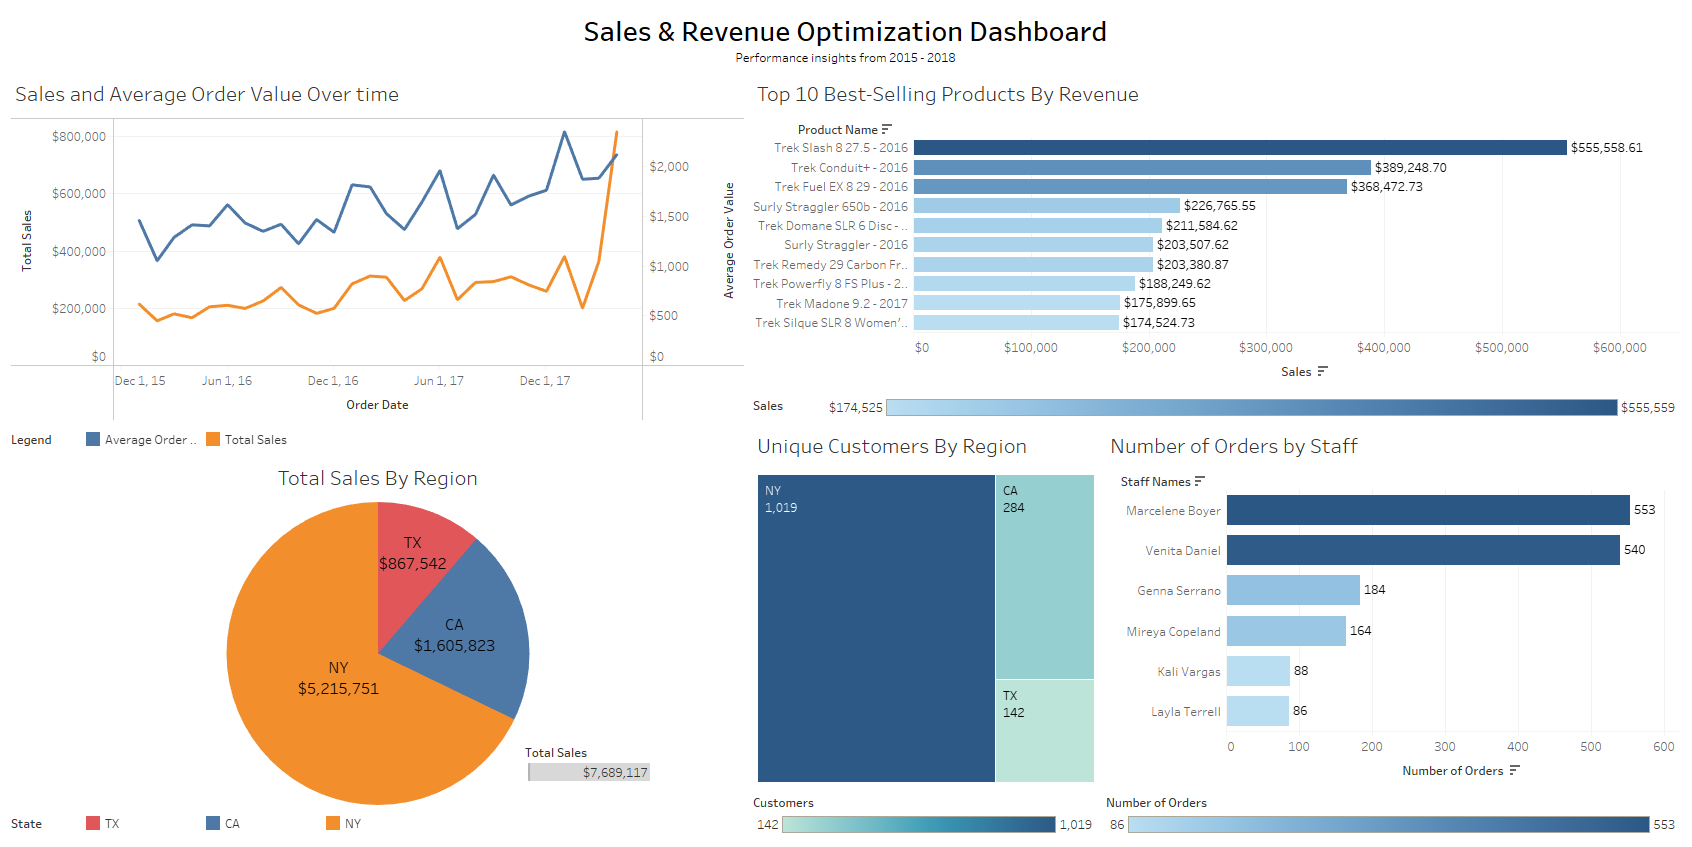

This screenshot's page, from the dashboard's own definition file:
{"tool":"tableau","page":{"name":"Sales & Revenue Optimization Dashboard","canvas":[1000,1000],"units":"permille","ordinal":0},"visuals":[{"type":"text","box":[4.7,9.4,990.5,75.5]},{"type":"worksheet","title":"Sales and Average Order Value Over time","mark":"Automatic","rows":["F2","F3"],"cols":["Calculation_1156017758725849088"],"box":[4.7,84.9,438.6,418]},{"type":"worksheet","title":"Top 10 Best-Selling Products By Revenue","mark":"Automatic","rows":["F1"],"cols":["F2"],"box":[443.3,84.9,552,377.4]},{"type":"legend","title":"Top 10 Best-Selling Products By Revenue","param":"[federated.1989x2b1o4sj4l1g7i16d0ktwh7e].[sum:F2:qk]","box":[443.3,462.3,552,37.7]},{"type":"worksheet","title":"Unique Customers By Region","mark":"Automatic","box":[443.3,500,208.2,432.8]},{"type":"worksheet","title":"Number of Orders by Staff","mark":"Automatic","rows":["F1"],"cols":["F2"],"box":[651.5,500,343.8,432.8]},{"type":"legend","title":"Sales and Average Order Value Over time","param":"[federated.1bb9gqc1rpjwpy15ijo2a1utg04u].[:Measure Names]","box":[4.7,502.9,438.6,34.9]},{"type":"worksheet","title":"Sales By Region","mark":"Pie","box":[4.7,537.8,438.6,418]},{"type":"legend","title":"Sales By Region","param":"[federated.0ku7nhv1i0ui4c155bxdq1qj0f9g].[sum:F2:qk]","box":[310.7,878.5,75,44.8]},{"type":"legend","title":"Unique Customers By Region","param":"[federated.0m1wswu0bholvr15w4b5s11nxfrz].[sum:F2:qk]","box":[443.3,932.8,208.1,57.8]},{"type":"legend","title":"Number of Orders by Staff","param":"[federated.0zd0ati16j91jj1h99ti11u9f8vc].[sum:F2:qk]","box":[651.4,932.8,343.9,57.8]},{"type":"legend","title":"Sales By Region","param":"[federated.0ku7nhv1i0ui4c155bxdq1qj0f9g].[none:F1:nk]","box":[4.7,955.7,438.6,34.8]}]}

Visuals, with their boxes on the dashboard's canvas, which has no fixed pixel size, in thousandths of its width and height (x1, y1, x2, y2). These are canvas units, not pixel positions in the 1692x847 screenshot, which may show the page scaled, cropped or inside an application window:
text: <box>5,9,995,85</box>
"Sales and Average Order Value Over time" worksheet: <box>5,85,443,503</box>
"Top 10 Best-Selling Products By Revenue" worksheet: <box>443,85,995,462</box>
"Top 10 Best-Selling Products By Revenue" legend: <box>443,462,995,500</box>
"Unique Customers By Region" worksheet: <box>443,500,652,933</box>
"Number of Orders by Staff" worksheet: <box>652,500,995,933</box>
"Sales and Average Order Value Over time" legend: <box>5,503,443,538</box>
"Sales By Region" worksheet (Pie marks): <box>5,538,443,956</box>
"Sales By Region" legend: <box>311,878,386,923</box>
"Unique Customers By Region" legend: <box>443,933,651,991</box>
"Number of Orders by Staff" legend: <box>651,933,995,991</box>
"Sales By Region" legend: <box>5,956,443,990</box>
